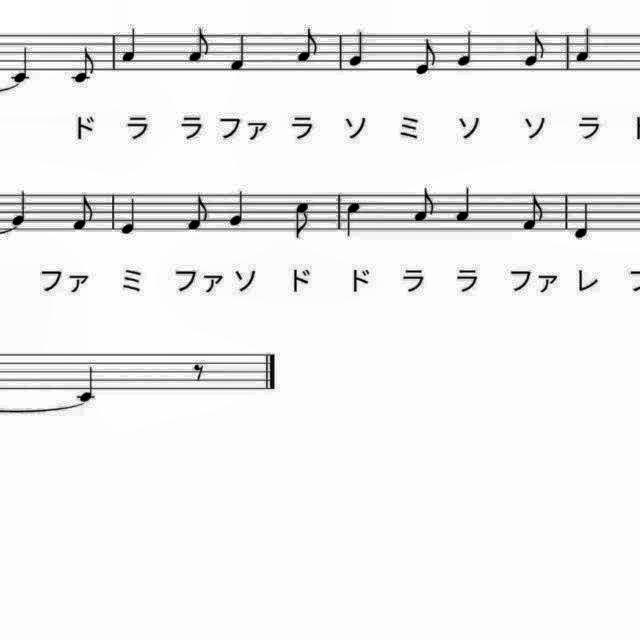Eighth-note: (66, 46, 100, 90), (68, 189, 100, 235), (411, 34, 442, 80), (518, 29, 550, 73), (182, 22, 214, 66), (181, 190, 213, 234), (520, 192, 552, 236), (408, 184, 439, 228), (292, 27, 324, 69), (288, 196, 314, 244)
Eighth-rest: (190, 358, 210, 386)
Quarter-note: (570, 197, 598, 243), (228, 32, 255, 76), (8, 43, 36, 85), (72, 363, 101, 403), (452, 184, 478, 228), (454, 26, 480, 70), (117, 194, 143, 238), (226, 186, 252, 230), (345, 26, 371, 70), (7, 187, 33, 230), (342, 196, 366, 242), (118, 24, 142, 68), (572, 24, 596, 66)
